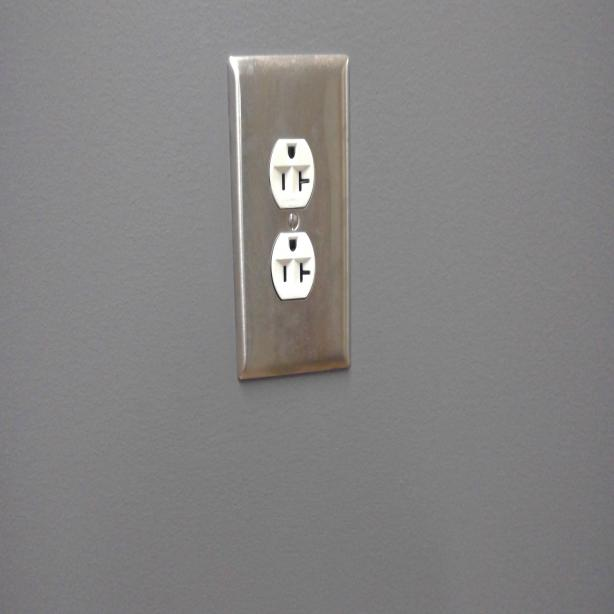typeb: (274, 134, 312, 201), (277, 236, 311, 292)
